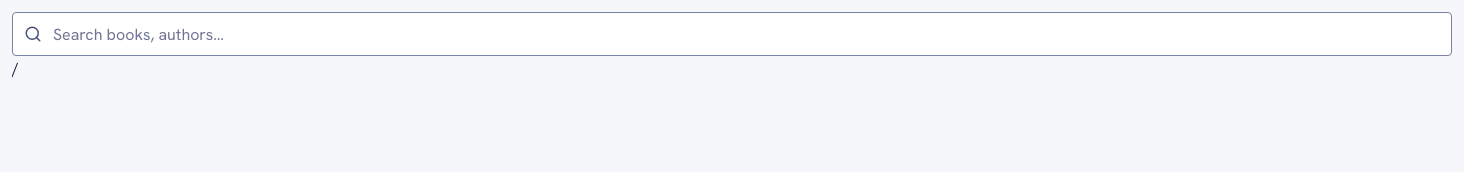
Test: LiveSearch › goes to the results page on Enter without a highlighted option
Type "moby dick" into the dropdown labelled "Search books" at (732, 34), box x1=12 y1=12 x2=1452 y2=56
Then press Enter
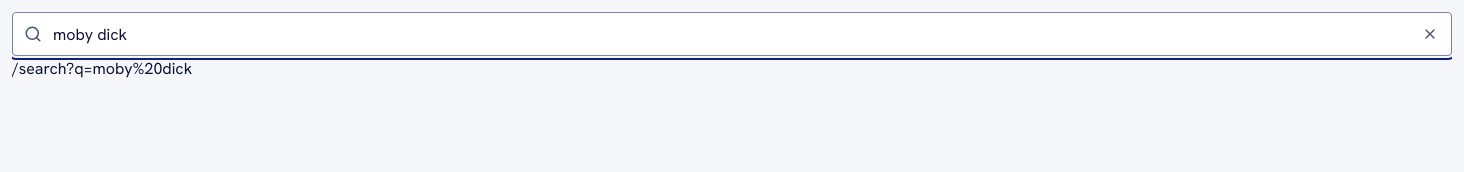
expect the text with test id "where" reads "/search?q=moby%20dick": met, box x1=12 y1=58 x2=192 y2=79
